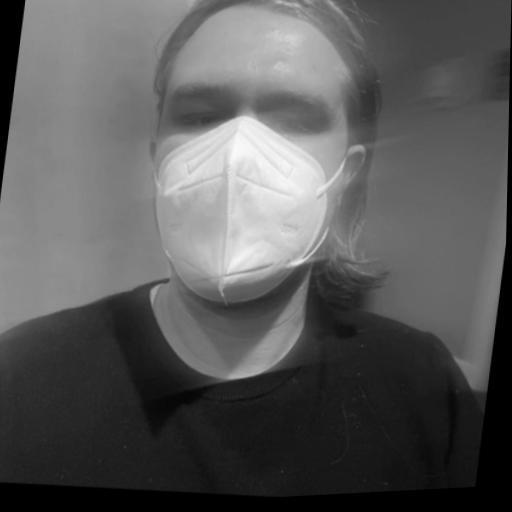mask: (112, 0, 418, 329)
